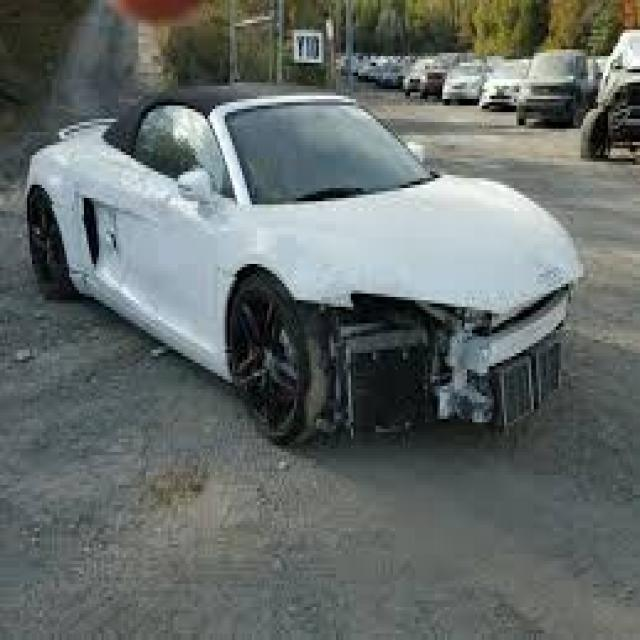severe: (258, 192, 556, 484)
